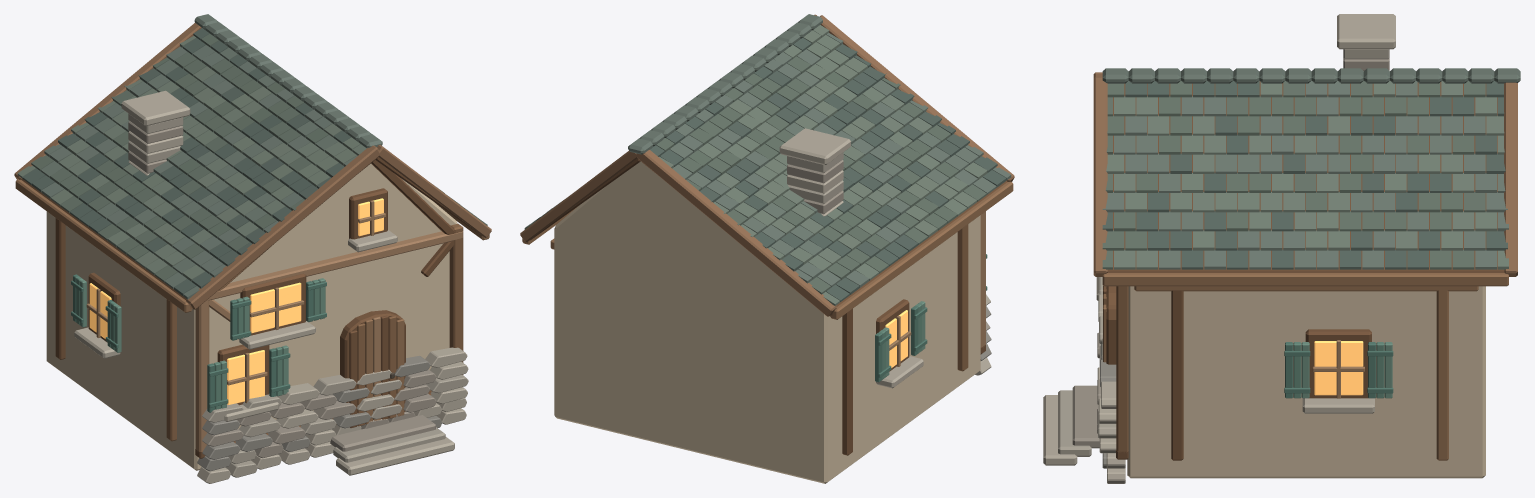
The model's file is stonehouse.glb.
3 renders of one model, left to right at view 1: azimuth 30°, elevation 25°; view 2: azimuth 150°, elevation 25°; view 3: azimuth 270°, elevation 25°, orthographic. The views are drawn at different scales.
Visible parts, largest first — view 1: stonehouse Warm limewash 02, stonehouse Slate green shingles 03, stonehouse Warm slate 03, stonehouse Slate green shingles 04, stonehouse Slate green shingles 02, stonehouse Slate green shingles 01, stonehouse Oiled oak 01, stonehouse Warm slate 01, stonehouse Oak end grain 01, stonehouse Warm slate 02, stonehouse Oiled oak 04, stonehouse Honey glass 01 (+7 smaller); view 2: stonehouse Warm limewash 02, stonehouse Slate green shingles 03, stonehouse Slate green shingles 04, stonehouse Slate green shingles 01, stonehouse Slate green shingles 02, stonehouse Oak end grain 01, stonehouse Warm slate 03, stonehouse Oiled oak 01, stonehouse Oiled oak 03, stonehouse Oiled oak 02, stonehouse Warm slate 02, stonehouse Warm slate 01 (+3 smaller); view 3: stonehouse Warm limewash 02, stonehouse Slate green shingles 03, stonehouse Slate green shingles 04, stonehouse Slate green shingles 02, stonehouse Slate green shingles 01, stonehouse Oiled oak 01, stonehouse Oiled oak 03, stonehouse Warm slate 03, stonehouse Oak end grain 01, stonehouse Honey glass 01, stonehouse Warm slate 01, stonehouse Oiled oak 02 (+5 smaller).
Boxes of the visible parts, <box> form: stonehouse Warm limewash 02: <box>46,163,457,470</box>; stonehouse Slate green shingles 03: <box>40,14,443,299</box>; stonehouse Warm slate 03: <box>74,90,468,483</box>; stonehouse Slate green shingles 04: <box>17,35,481,281</box>; stonehouse Slate green shingles 02: <box>31,33,487,281</box>; stonehouse Slate green shingles 01: <box>22,28,465,295</box>; stonehouse Oiled oak 01: <box>21,157,481,458</box>; stonehouse Warm slate 01: <box>128,121,436,458</box>; stonehouse Oak end grain 01: <box>14,23,491,309</box>; stonehouse Warm slate 02: <box>128,113,468,477</box>; stonehouse Oiled oak 04: <box>195,231,463,451</box>; stonehouse Honey glass 01: <box>89,198,383,404</box>; stonehouse Warm limewash 02: <box>554,161,980,483</box>; stonehouse Slate green shingles 03: <box>531,14,1011,287</box>; stonehouse Slate green shingles 04: <box>524,25,987,305</box>; stonehouse Slate green shingles 01: <box>536,37,1006,301</box>; stonehouse Slate green shingles 02: <box>656,56,986,294</box>; stonehouse Oak end grain 01: <box>520,14,1014,316</box>; stonehouse Warm slate 03: <box>779,128,991,388</box>; stonehouse Oiled oak 01: <box>530,158,1007,455</box>; stonehouse Oiled oak 03: <box>522,181,1013,319</box>; stonehouse Oiled oak 02: <box>957,224,968,371</box>; stonehouse Warm slate 02: <box>787,152,990,305</box>; stonehouse Warm slate 01: <box>787,160,990,330</box>; stonehouse Warm limewash 02: <box>1127,286,1485,478</box>; stonehouse Slate green shingles 03: <box>1102,68,1520,269</box>; stonehouse Slate green shingles 04: <box>1106,81,1508,269</box>; stonehouse Slate green shingles 02: <box>1102,80,1485,269</box>; stonehouse Slate green shingles 01: <box>1102,80,1507,269</box>; stonehouse Oiled oak 01: <box>1103,81,1503,460</box>; stonehouse Oiled oak 03: <box>1102,273,1508,460</box>; stonehouse Warm slate 03: <box>1043,14,1395,483</box>; stonehouse Oak end grain 01: <box>1093,72,1517,276</box>; stonehouse Honey glass 01: <box>1314,341,1363,395</box>; stonehouse Warm slate 01: <box>1072,58,1389,448</box>; stonehouse Oiled oak 02: <box>1103,286,1128,452</box>.
Size of the model in its own units: 5.48 by 5.21 by 6.21.
